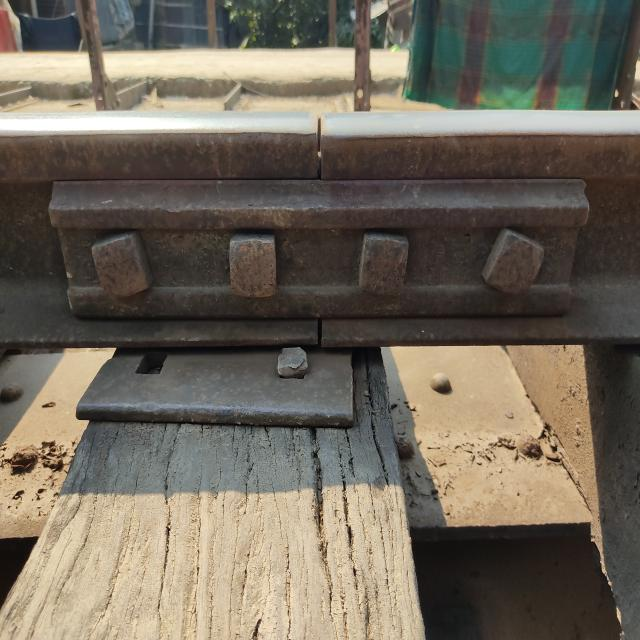non-defective: (255, 97, 446, 270)
